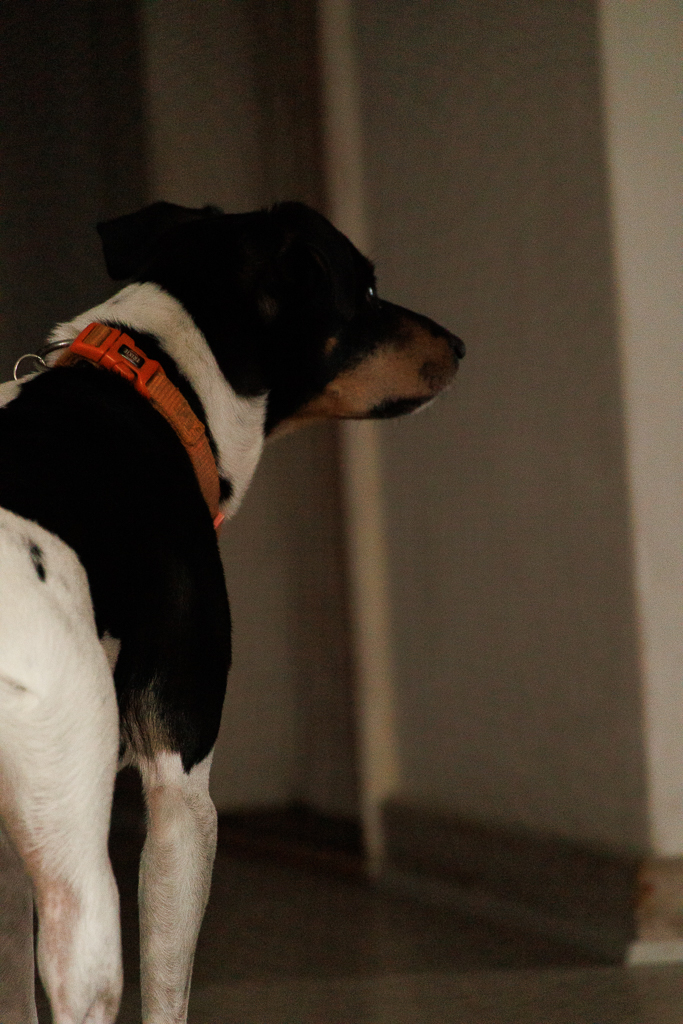Dog: (0, 175, 503, 1024)
